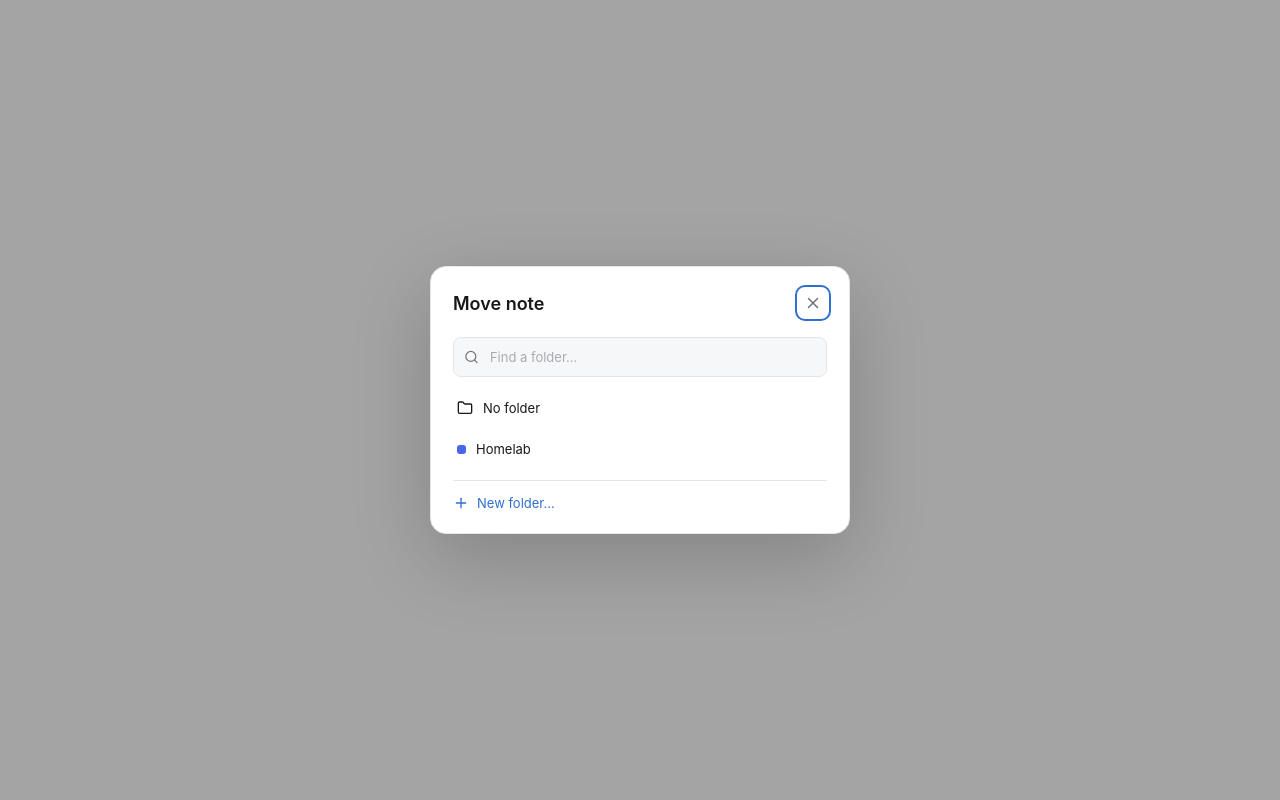
keeps the picker open and reports a failed move
Click the button "Homelab".
click(503, 449)  # box [447,430,833,468]
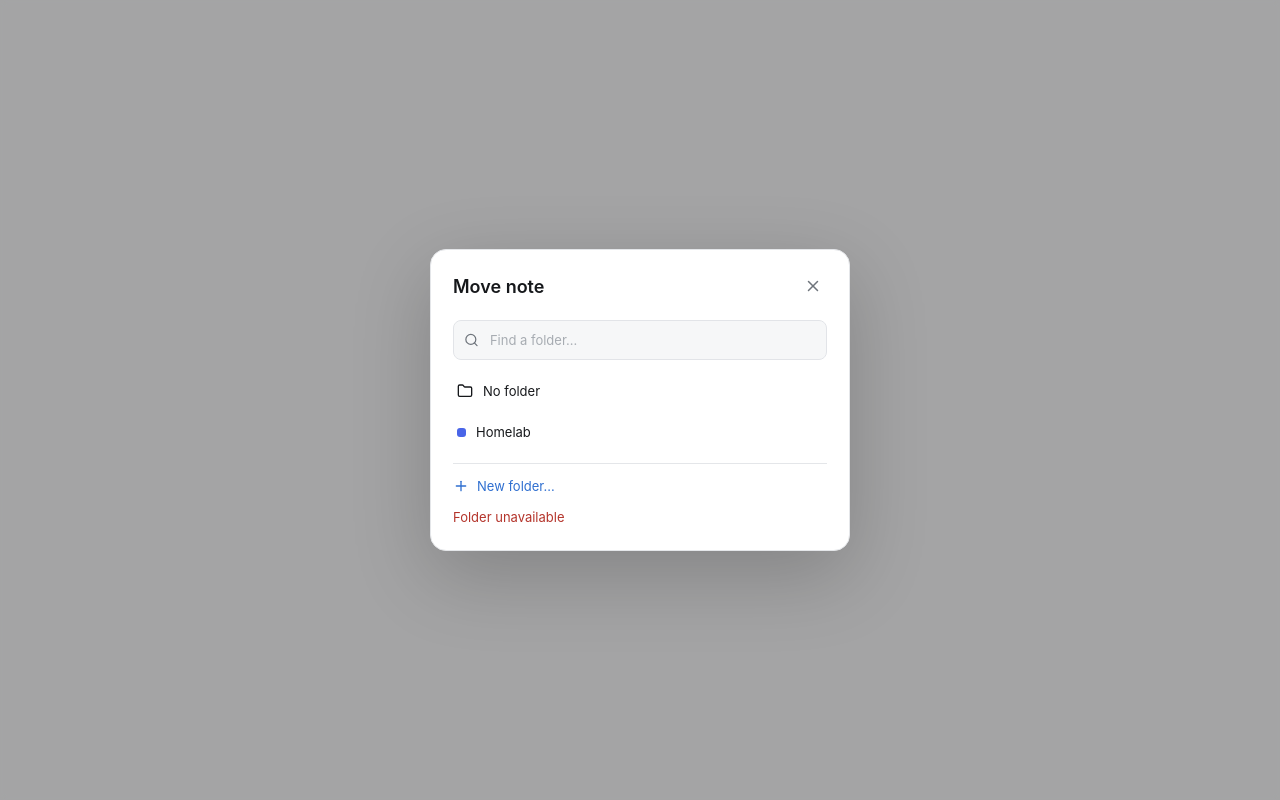
Check: the message "Folder unavailable" is shown, box [453,509,564,525]
